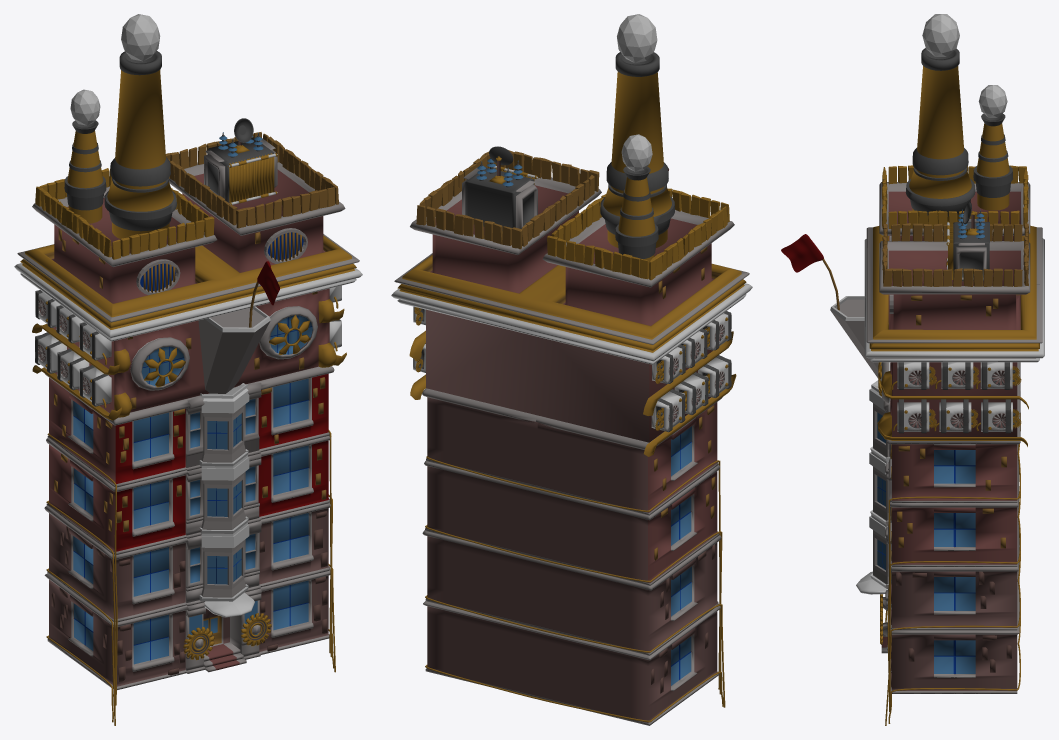
File: houses crane.fbx
3 renders of one model, left to right at view 1: azimuth 30°, elevation 25°; view 2: azimuth 150°, elevation 25°; view 3: azimuth 270°, elevation 25°, orthographic. The views are drawn at different scales.
Parts seen in each view (by area): view 1: Arc; view 2: Arc; view 3: Arc.
Boxes of the visible parts, left/top/right/bottom form: Arc: left=14, top=14, right=362, bottom=725; Arc: left=391, top=14, right=752, bottom=725; Arc: left=781, top=14, right=1044, bottom=725.
Size of the model in its own units: 4.39 by 11.19 by 4.21.
